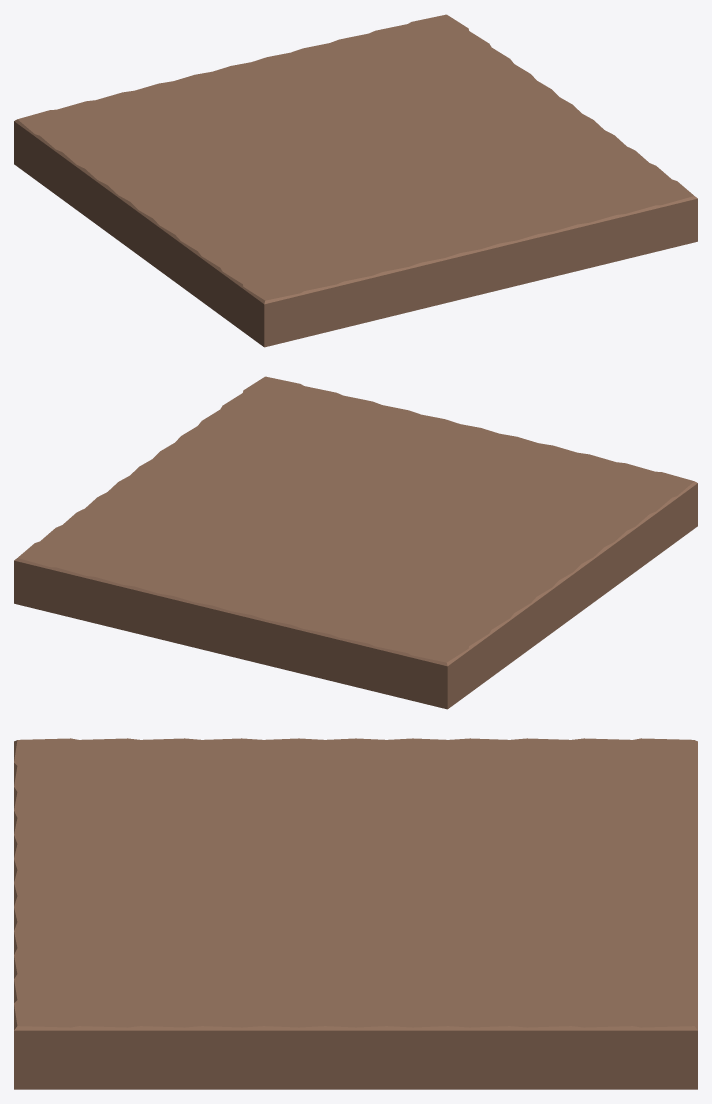
File: mahsulot.glb
The picture shows the model from 3 angles, top to bottom: view 1: azimuth 30°, elevation 25°; view 2: azimuth 150°, elevation 25°; view 3: azimuth 270°, elevation 25°; orthographic projection. The views are drawn at different scales.
Visible parts, largest first — view 1: mahsulot_A; view 2: mahsulot_A; view 3: mahsulot_A.
Boxes of the visible parts, x1=… form: mahsulot_A: x1=14, y1=14, x2=697, y2=347; mahsulot_A: x1=14, y1=376, x2=697, y2=709; mahsulot_A: x1=14, y1=738, x2=697, y2=1089.
Bounding box in the file's own units: 0.3 × 0.03 × 0.3.
